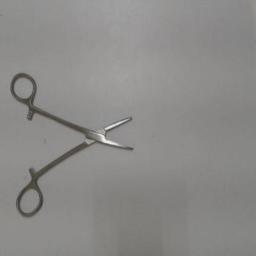Mayo Needle Holder: (6, 64, 146, 222)
